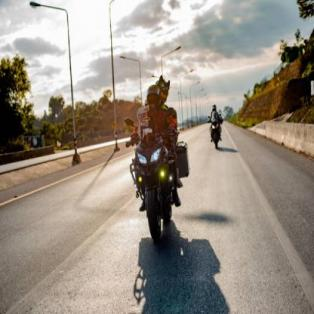Motocicleta: (126, 120, 182, 252)
